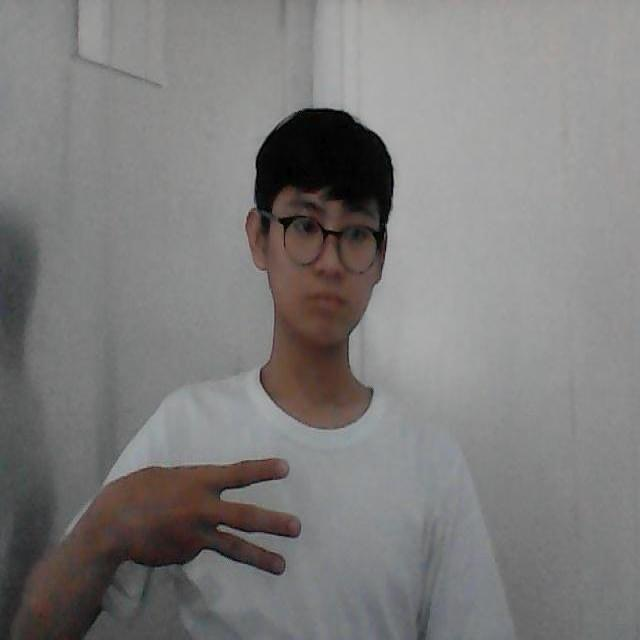E: (108, 449, 310, 586)
